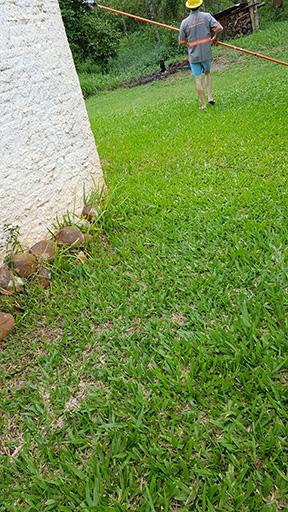Vara_Manobra: (97, 4, 288, 66)
